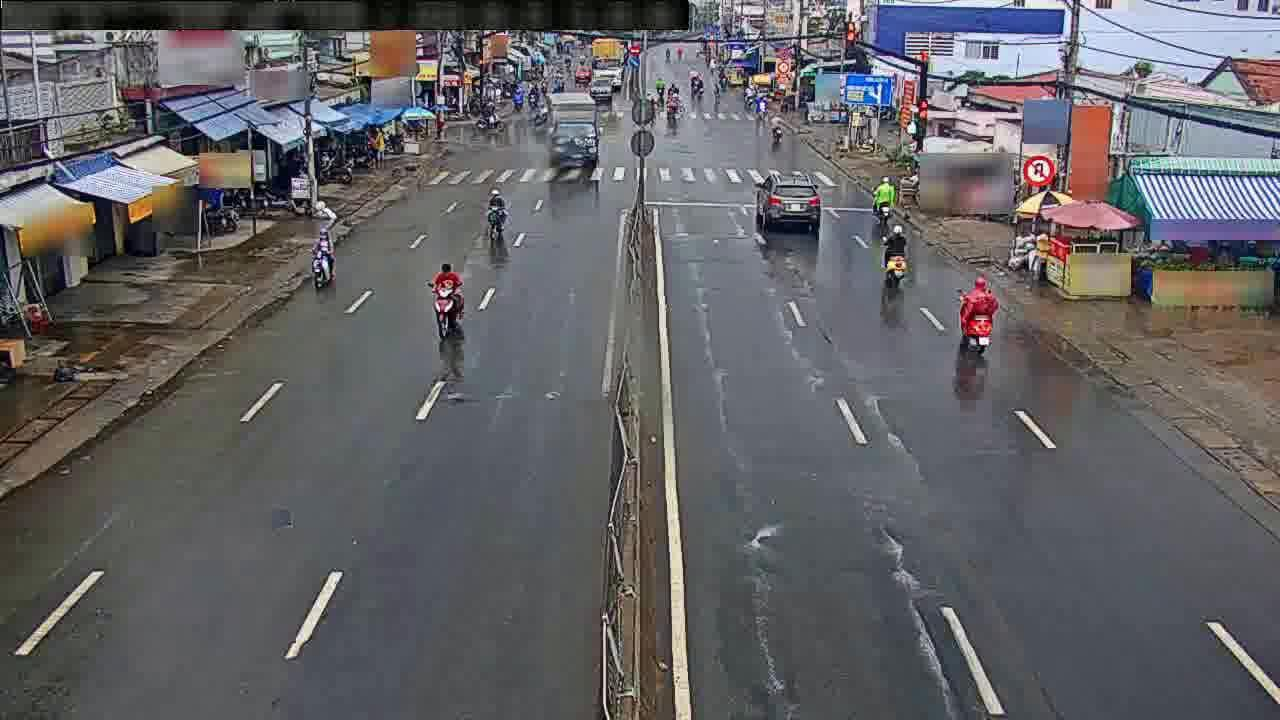8: (544, 89, 603, 171)
container: (753, 174, 824, 234)
motorbike: (431, 263, 471, 340), (959, 268, 995, 350), (306, 228, 343, 285), (884, 218, 912, 285), (867, 178, 899, 223), (482, 188, 507, 239)
